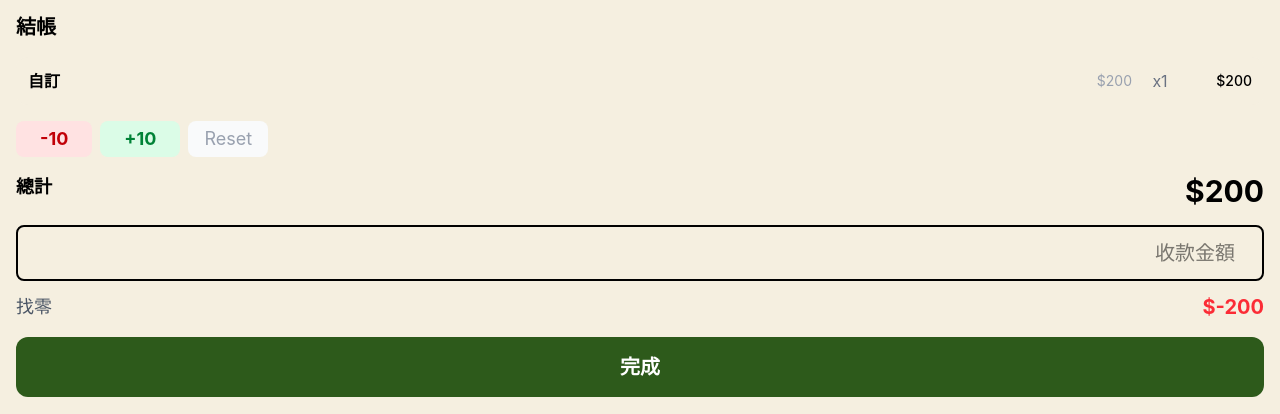
Scenario: CheckoutFlow › resets discount on button click
Step 1. Click the button "-10" → (54, 139), box [16,121,92,157]
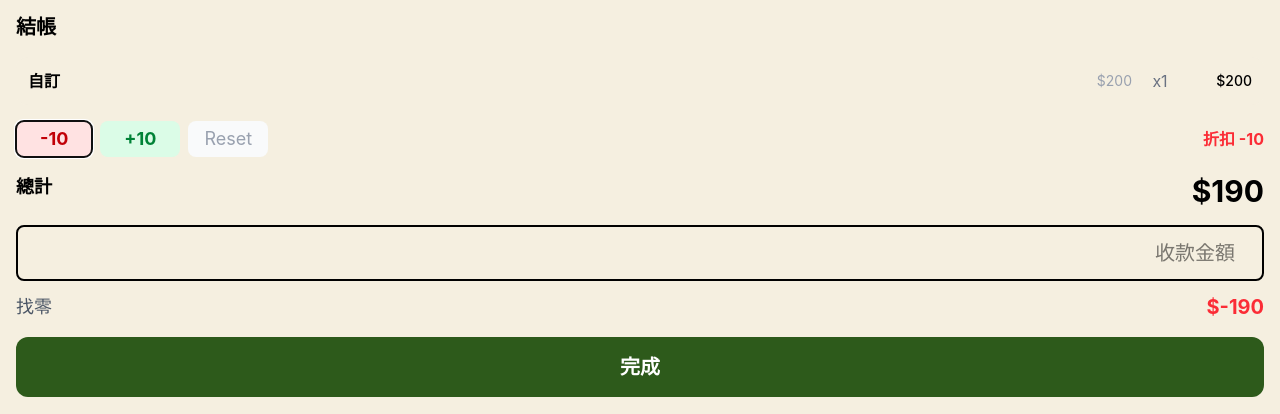
Step 2. Click the button "-10" → (54, 139), box [16,121,92,157]
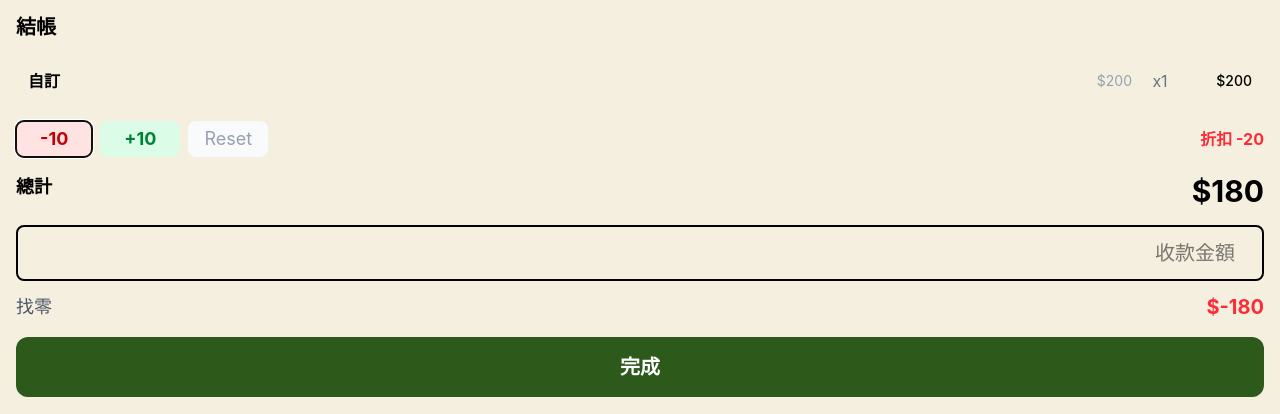
Step 3. Click the button "Reset" → (228, 139), box [188,121,268,157]
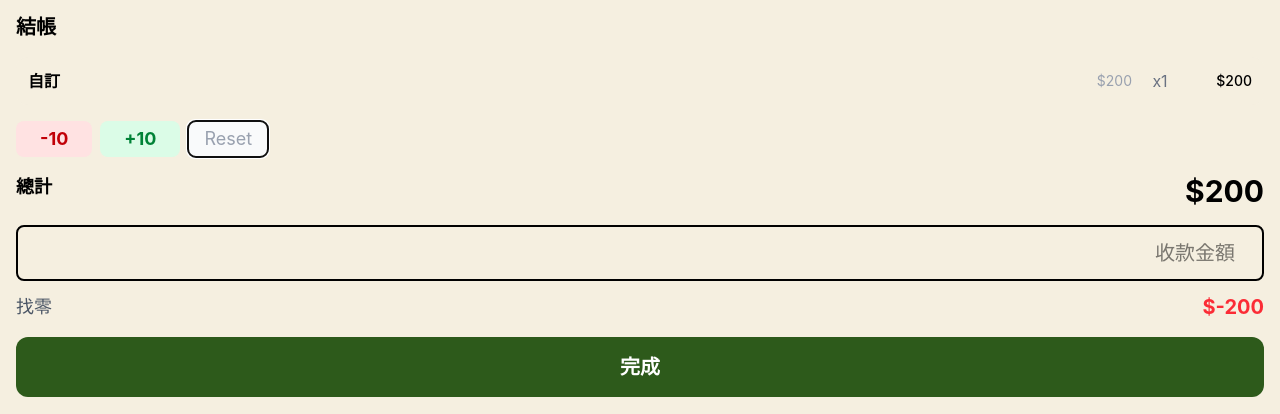
Check: the text "折扣" is gone
